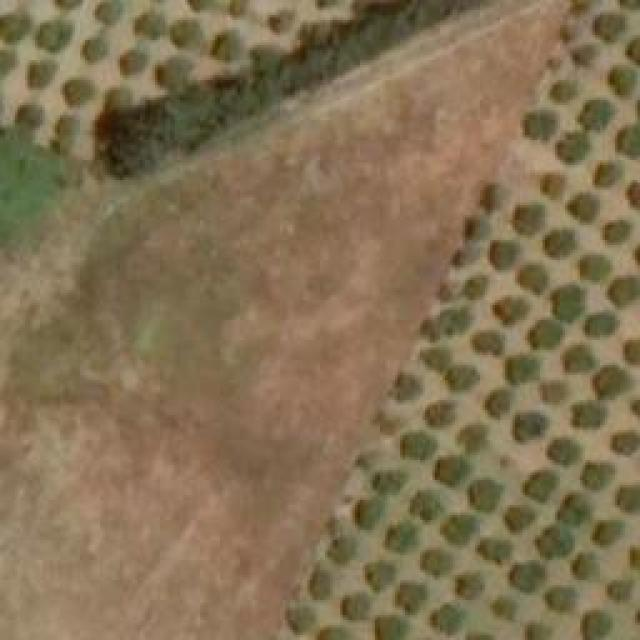Tree: (420, 308, 470, 338), (155, 55, 190, 90), (535, 528, 573, 558), (440, 515, 480, 543), (210, 30, 243, 63), (513, 203, 546, 236), (598, 365, 631, 398), (558, 495, 591, 528), (410, 490, 443, 523), (558, 130, 591, 163), (38, 20, 73, 50), (543, 228, 578, 258), (555, 285, 585, 320), (528, 318, 563, 348), (458, 420, 488, 455), (523, 470, 558, 500), (578, 100, 613, 130), (170, 20, 203, 50), (470, 480, 503, 510), (523, 110, 556, 140), (477, 183, 509, 213), (400, 435, 438, 460), (475, 538, 513, 563), (565, 345, 598, 373), (390, 372, 423, 400), (133, 10, 163, 40), (118, 48, 148, 78), (610, 278, 640, 308), (595, 13, 625, 43), (573, 403, 608, 428), (0, 12, 30, 40), (28, 60, 58, 88), (65, 77, 95, 105), (570, 190, 598, 220), (515, 412, 545, 440), (435, 457, 465, 485), (355, 500, 383, 530), (325, 537, 355, 565), (508, 358, 541, 383), (583, 463, 616, 488), (385, 525, 418, 550), (615, 125, 640, 158), (450, 240, 483, 265), (490, 242, 518, 270), (612, 482, 640, 510), (585, 612, 613, 640), (375, 470, 408, 493), (578, 255, 608, 280), (520, 265, 545, 295), (495, 298, 525, 323), (550, 438, 580, 463), (448, 365, 478, 390), (425, 400, 455, 425), (505, 505, 535, 530), (610, 68, 635, 98), (593, 163, 623, 188), (15, 103, 43, 128), (267, 10, 295, 35), (512, 563, 540, 588), (397, 585, 425, 610), (550, 78, 578, 103), (473, 330, 503, 353), (435, 278, 461, 304), (465, 215, 491, 240), (52, 113, 80, 136), (587, 313, 615, 336), (612, 430, 640, 453), (422, 550, 450, 573), (435, 608, 463, 631), (540, 173, 565, 198), (595, 518, 620, 543), (377, 617, 404, 640), (103, 88, 133, 108), (488, 388, 508, 418), (83, 38, 108, 61), (605, 220, 630, 243), (368, 565, 393, 588), (290, 608, 315, 631), (462, 275, 490, 295), (422, 348, 450, 368), (547, 588, 575, 608), (310, 568, 328, 598), (95, 0, 120, 20), (375, 410, 395, 435), (575, 555, 598, 575), (573, 45, 596, 65), (50, 140, 75, 158), (625, 35, 640, 65), (625, 180, 640, 210), (0, 52, 15, 80), (610, 582, 633, 600), (545, 380, 565, 400), (530, 620, 550, 640), (460, 575, 480, 595), (348, 598, 368, 618), (625, 338, 640, 363), (228, 0, 248, 18), (495, 600, 513, 620)
